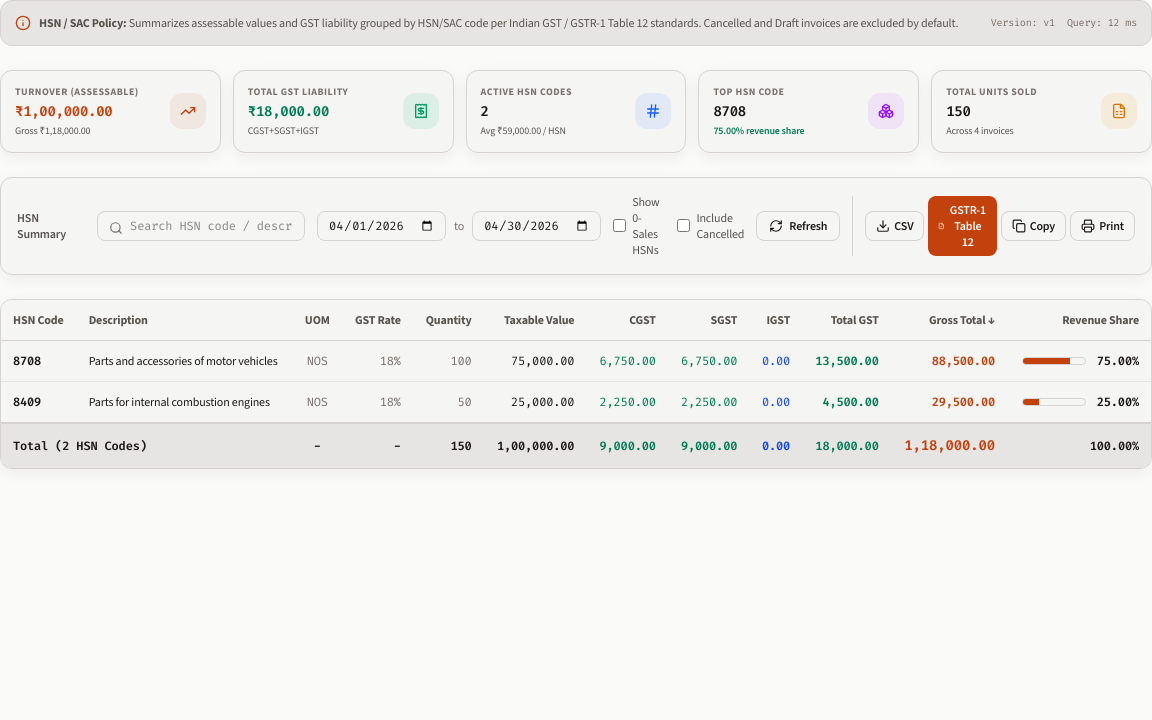
Test: HsnWiseReportTab Component › 2. Drills down into Level 2 Item Breakdown on HSN row click
Click the row with test id "hsn-row-8708" at coordinates (576, 361), box [1,340,1151,381]
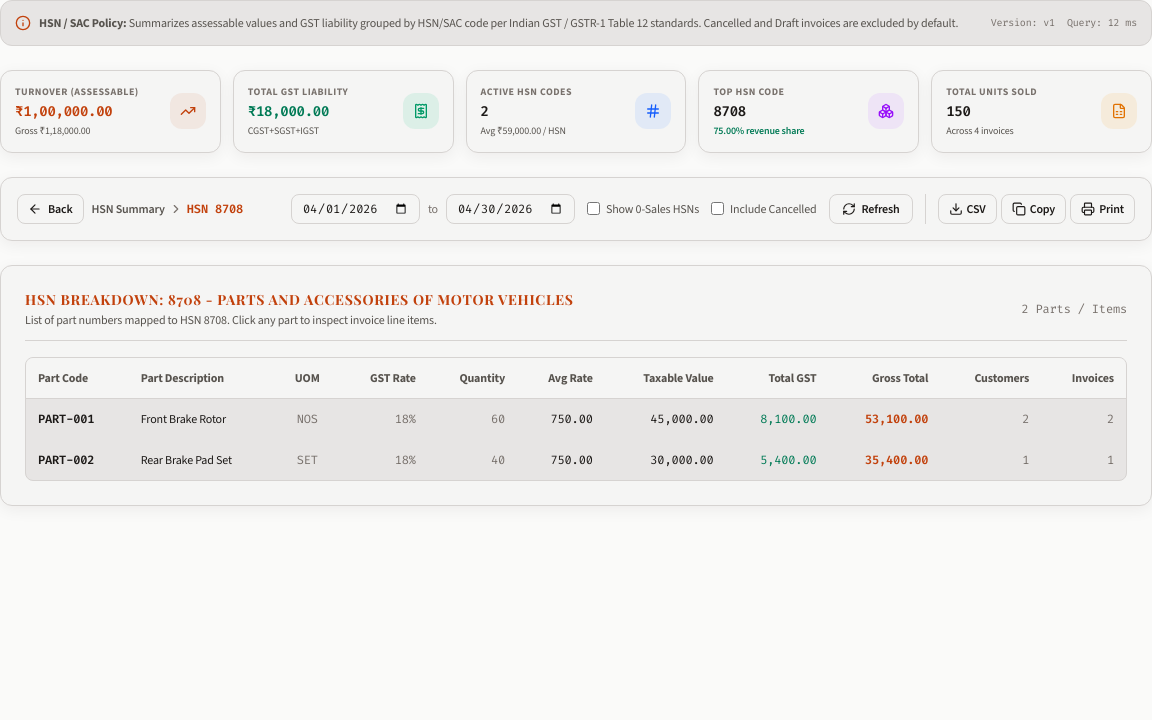
Expected: the table with test id "hsn-level2-table" is shown, [26,358,1126,480]
Expected: the row with test id "hsn-item-row-PART-001" is shown, [26,398,1126,439]
Expected: the row with test id "hsn-item-row-PART-002" is shown, [26,439,1126,480]
